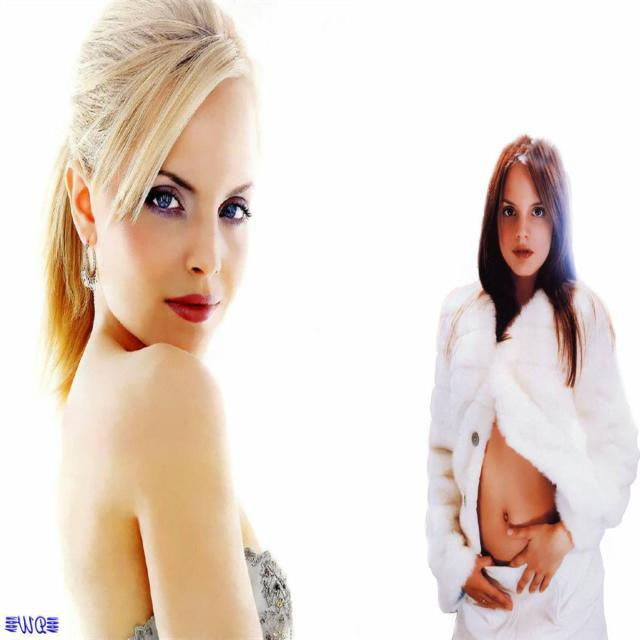no-earmuff: (60, 154, 115, 260)
